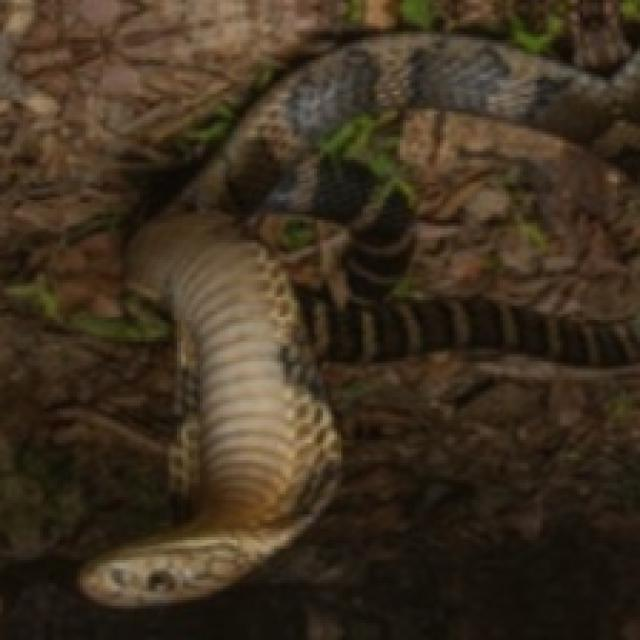king cobra: (80, 34, 637, 637)
